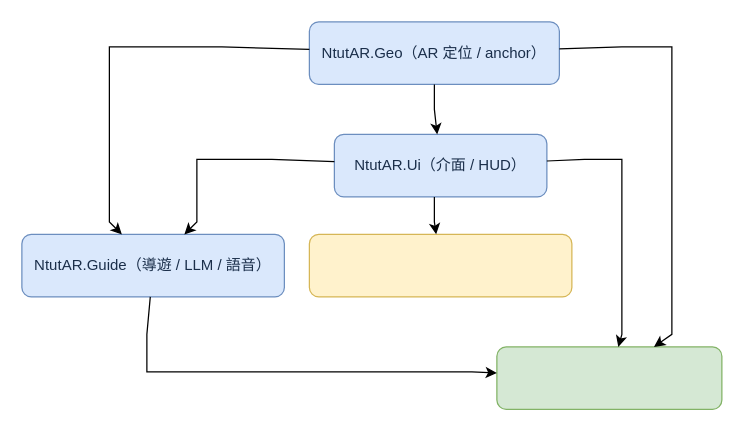
Image size: 744x431. Some labels were removed from this diagram. The box of each missing label's shape, as (x1, y1, x2, y2) in pixels:
NtutAR.Cat（召喚貓 / Q-Learning）: (308, 233, 572, 297)
NtutAR.Poi（POI 資料層）: (496, 346, 722, 409)
